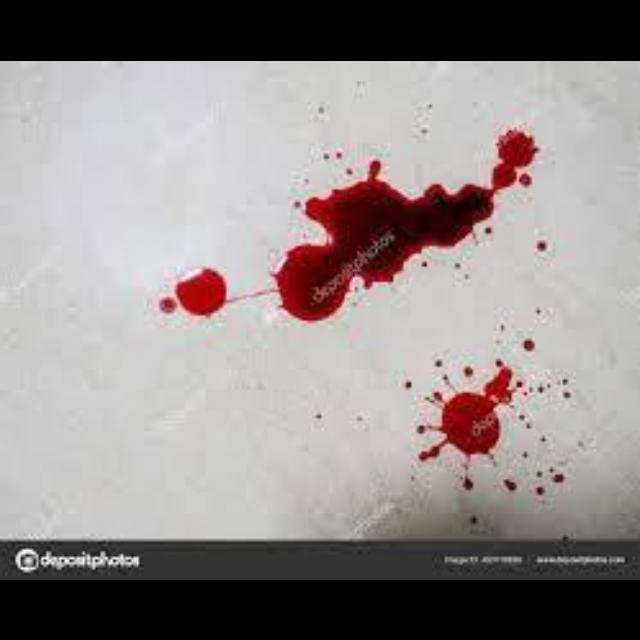blood: (159, 127, 540, 321), (414, 358, 576, 503), (465, 515, 493, 536), (537, 307, 555, 323), (524, 338, 537, 352), (504, 479, 517, 493), (537, 240, 550, 253)
